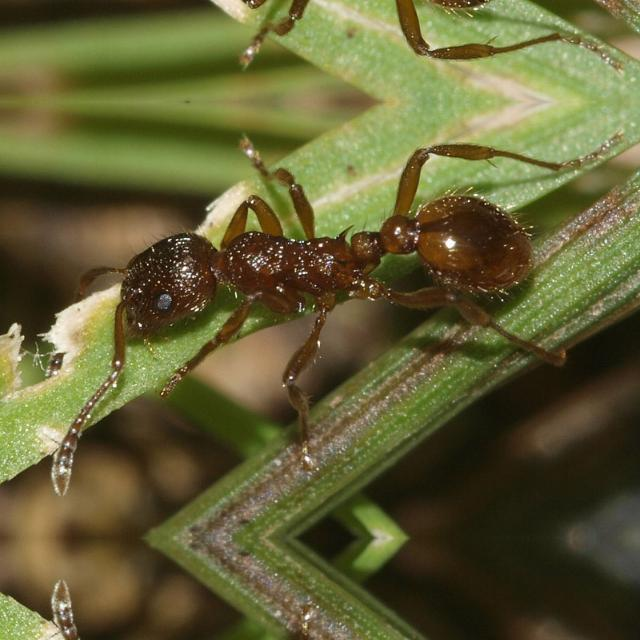Myrmica: (88, 166, 560, 360)
